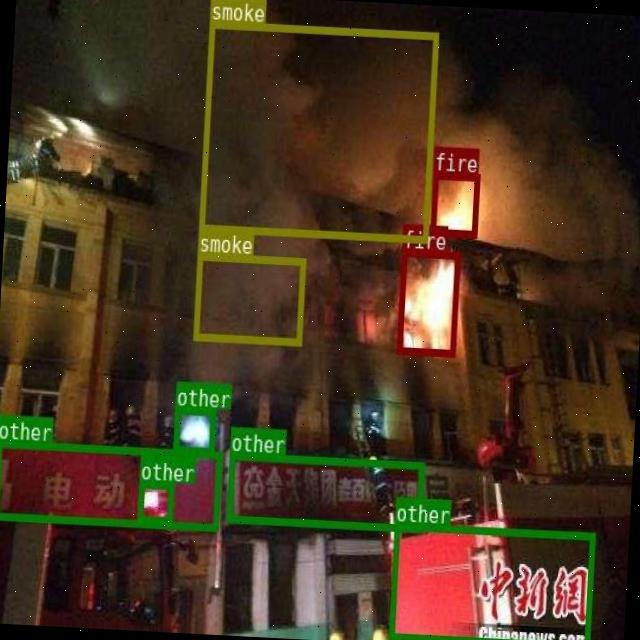fire: (396, 248, 458, 356), (430, 171, 480, 237)
smoke: (198, 19, 438, 242), (193, 252, 304, 344)
